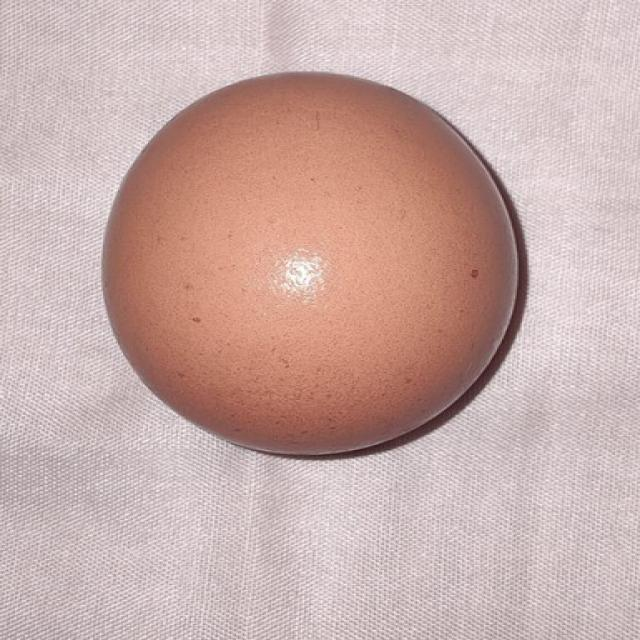fresh: (84, 48, 553, 472)
